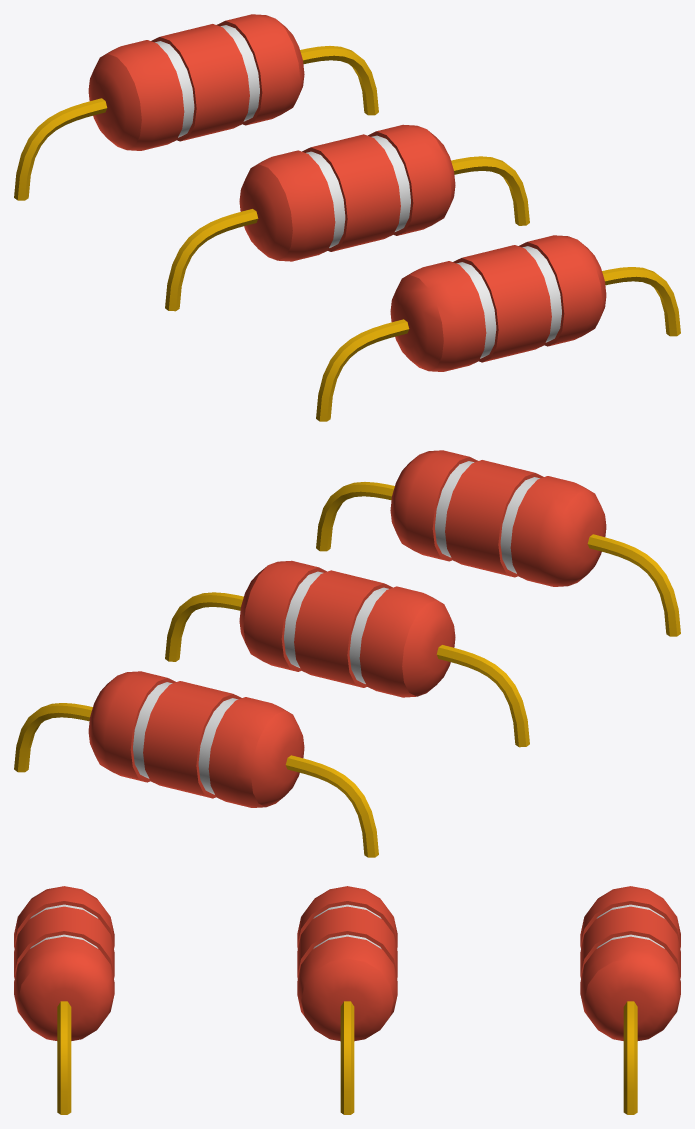
The model's file is diodes.fbx.
3 views of the same model, one above another, from view 1: azimuth 30°, elevation 25°; view 2: azimuth 150°, elevation 25°; view 3: azimuth 270°, elevation 25° (orthographic). The views are drawn at different scales.
Visible parts, largest first — view 1: diodes; view 2: diodes; view 3: diodes.
Boxes of the visible parts, x1=… form: diodes: x1=14, y1=14, x2=680, y2=421; diodes: x1=14, y1=450, x2=680, y2=857; diodes: x1=14, y1=886, x2=680, y2=1114.
Size of the model in its own units: 23.86 by 7.65 by 40.66.
